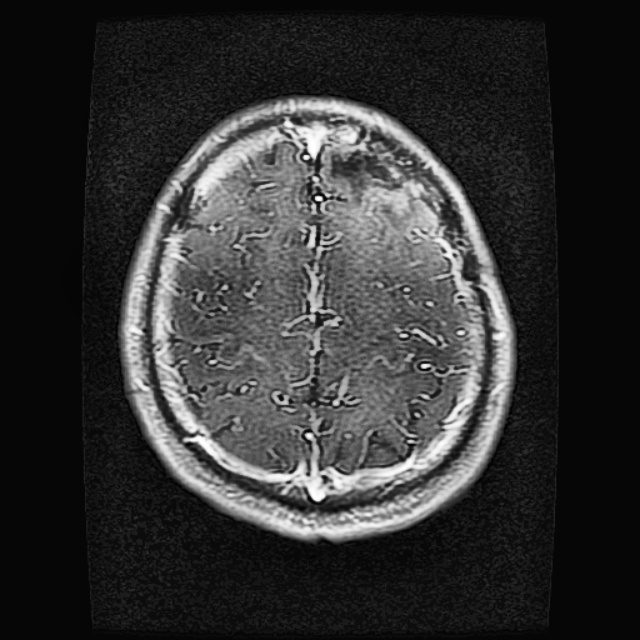Meningioma: (330, 137, 444, 234)
